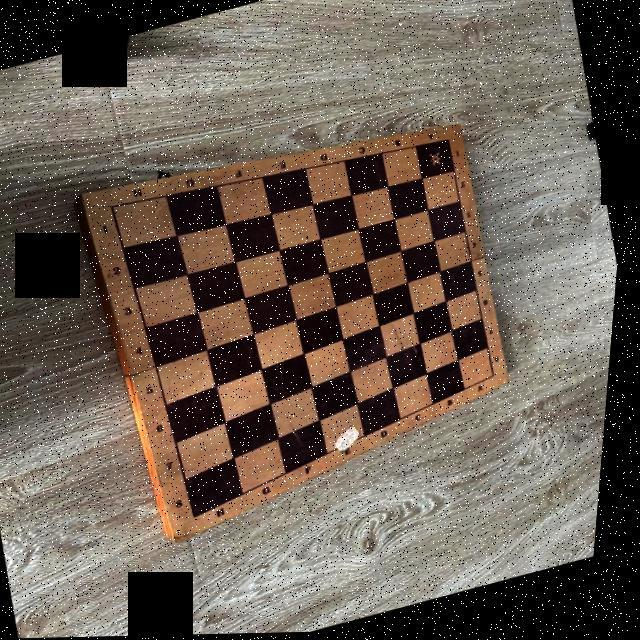chess-table-corners: (109, 200, 123, 210), (196, 512, 209, 522), (496, 373, 504, 381), (446, 137, 454, 144)
